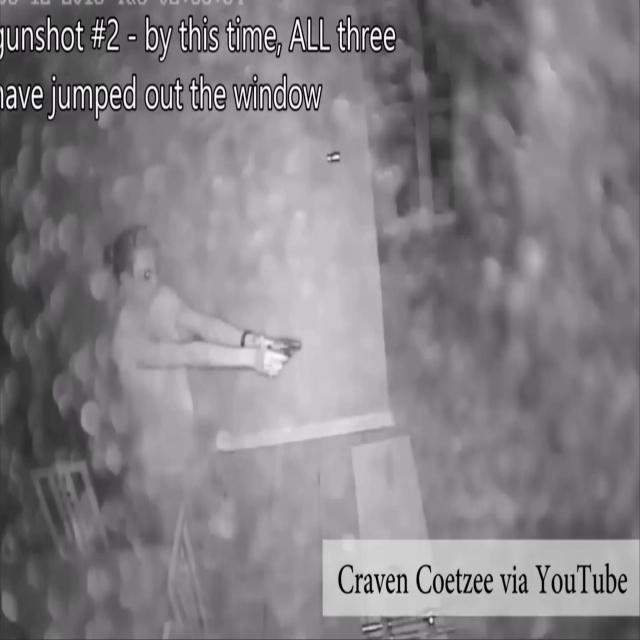gun: (258, 337, 304, 377)
